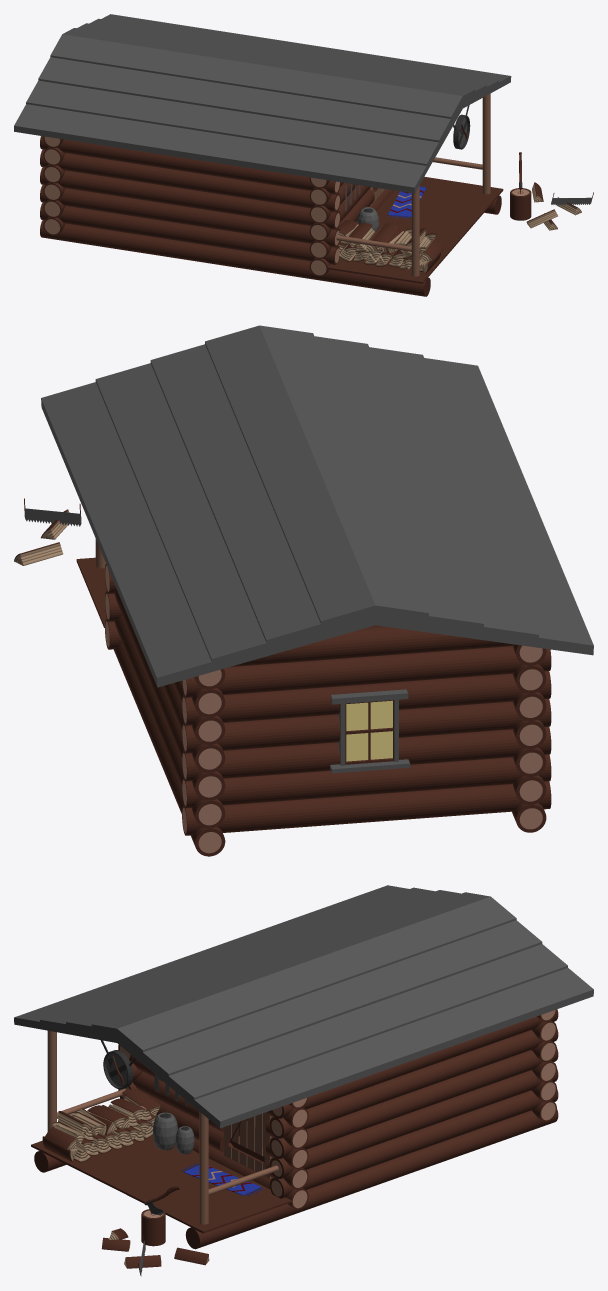
File: lumberjack_hut.fbx
3 views of the same model, one above another, from view 1: azimuth 30°, elevation 25°; view 2: azimuth 150°, elevation 25°; view 3: azimuth 270°, elevation 25° (orthographic). The views are drawn at different scales.
Visible parts, largest first — view 1: lumberjack_hut; view 2: lumberjack_hut; view 3: lumberjack_hut.
Part boxes in pixels (bbox=[...]): lumberjack_hut: bbox=[14, 14, 593, 296]; lumberjack_hut: bbox=[14, 325, 593, 856]; lumberjack_hut: bbox=[14, 885, 593, 1276].
Bounding box in the file's own units: 196 × 63.11 × 183.
